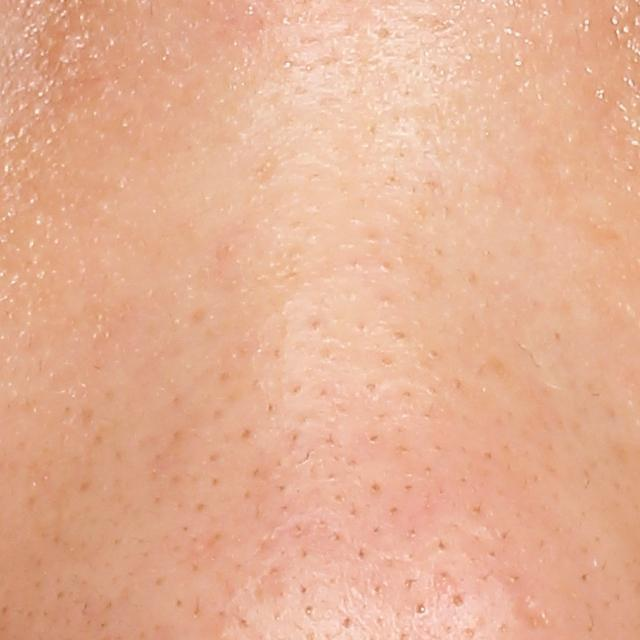atrophic_scar: (513, 594, 552, 634)
comedo: (411, 599, 432, 620), (450, 591, 465, 607)
